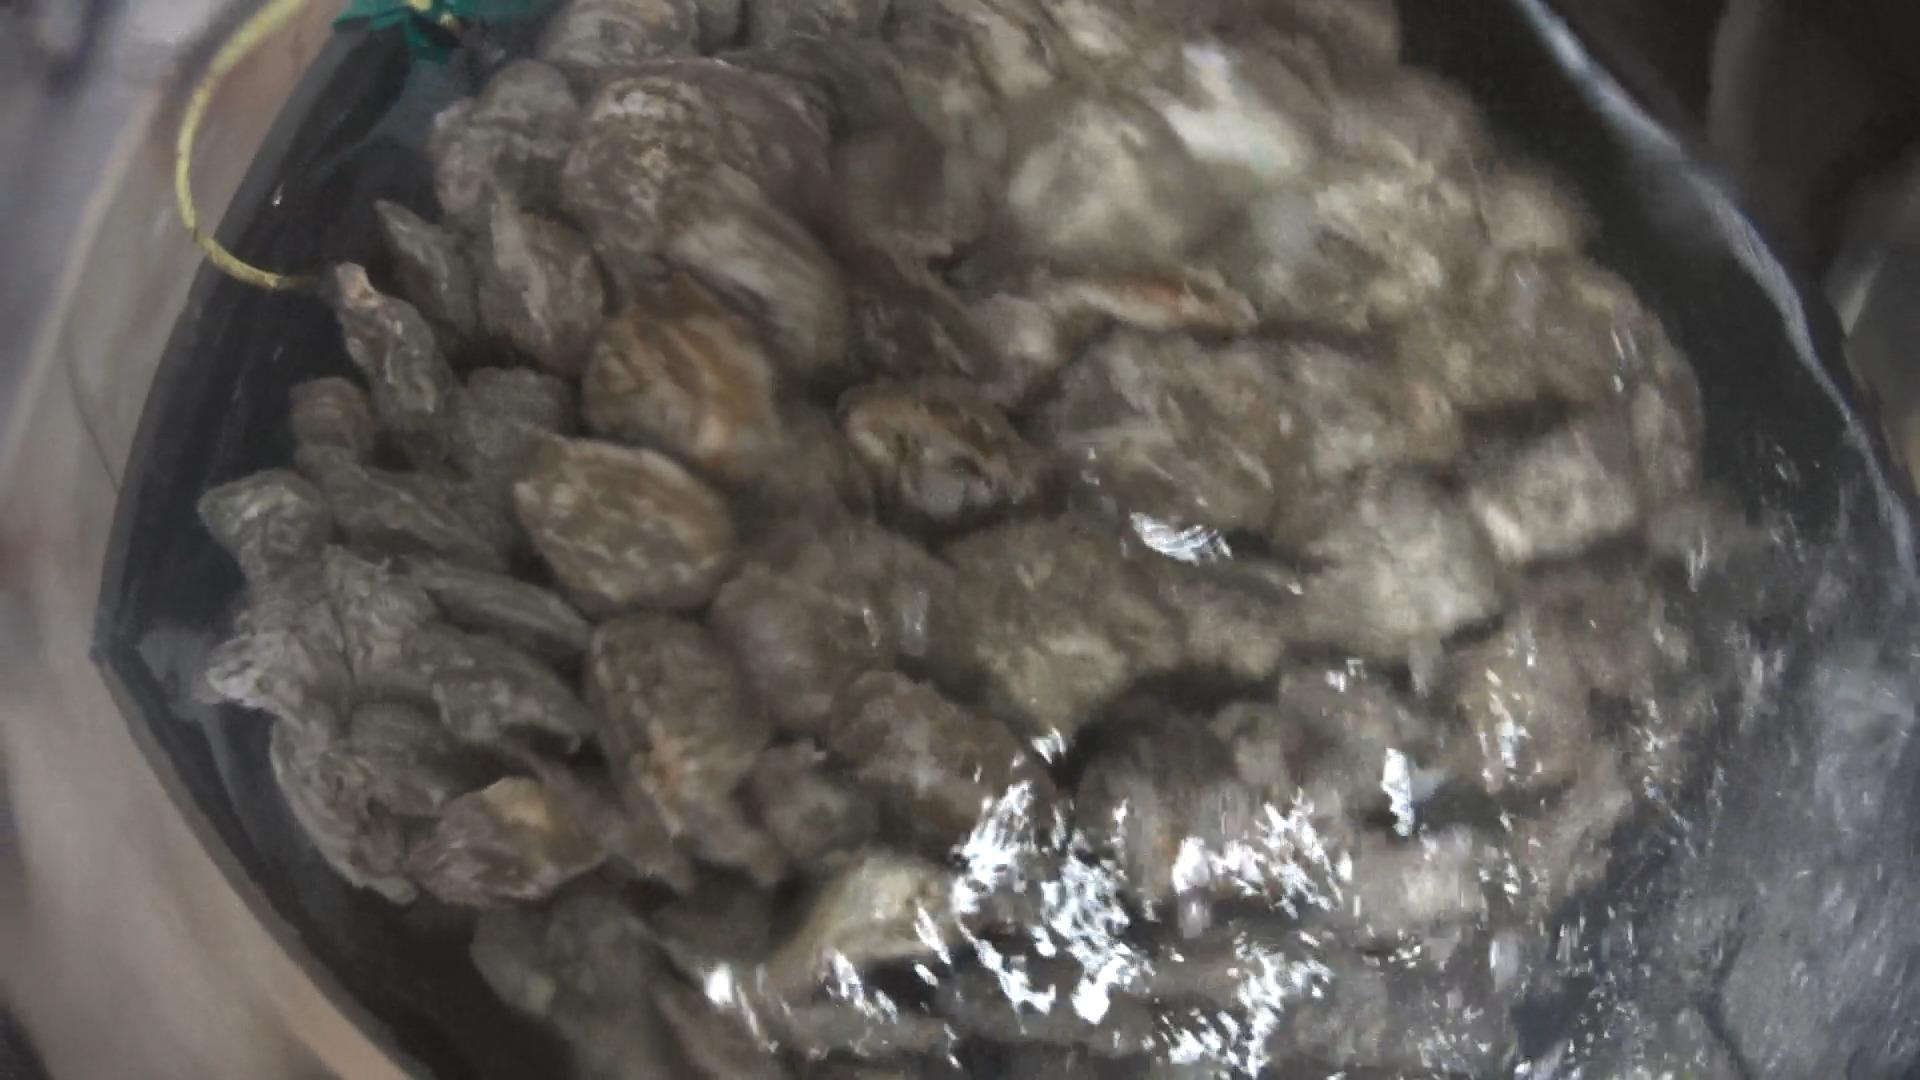3: (585, 612, 782, 886), (266, 720, 414, 903), (298, 444, 504, 570), (840, 233, 994, 376), (429, 625, 592, 753), (410, 560, 589, 665)
Oyster- Indeterminate: (1043, 328, 1462, 531), (560, 55, 825, 281), (945, 513, 1184, 738), (713, 522, 953, 732), (204, 545, 439, 732), (1300, 473, 1503, 688), (582, 272, 782, 483), (513, 434, 732, 615), (665, 164, 849, 375), (1007, 88, 1216, 266), (829, 671, 1027, 853), (839, 375, 1050, 530), (767, 851, 952, 998), (1455, 608, 1593, 795), (409, 775, 603, 909), (1520, 562, 1696, 698), (1472, 423, 1640, 564), (473, 193, 603, 375), (1513, 256, 1668, 401), (327, 262, 454, 433), (1336, 827, 1489, 949), (446, 365, 574, 505), (1159, 559, 1296, 680), (348, 702, 491, 818), (749, 397, 876, 527), (749, 740, 880, 864), (195, 469, 331, 580), (539, 0, 699, 66)
Oyster-Closed: (373, 198, 477, 355)
